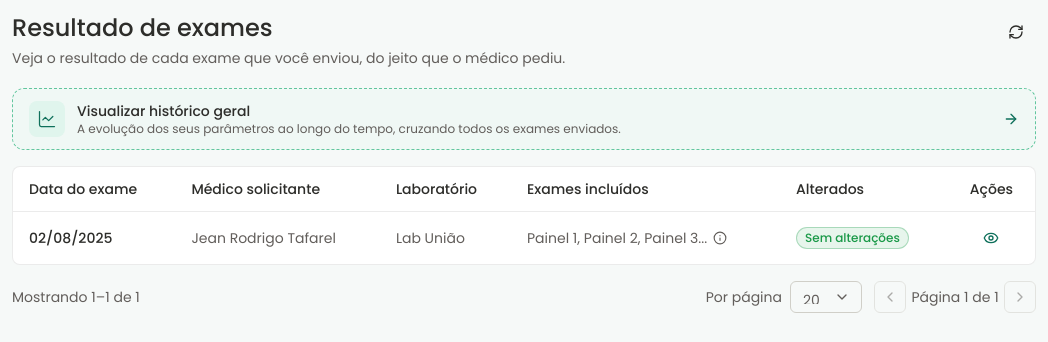
Scenario: ExamResultsView — célula "Exames incluídos" › mais de 10: tooltip corta em 10 e adiciona linha "..."
Hover over the element with class "cursor-default" at (627, 238), box [527,228,727,248]
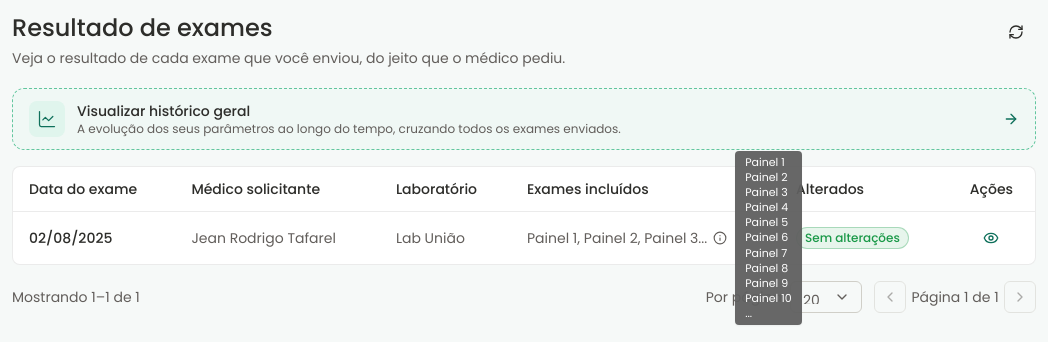
Expected: the tooltip shows "Painel 10", [745,290,792,306]
Expected: the tooltip shows "...", [745,305,752,321]
